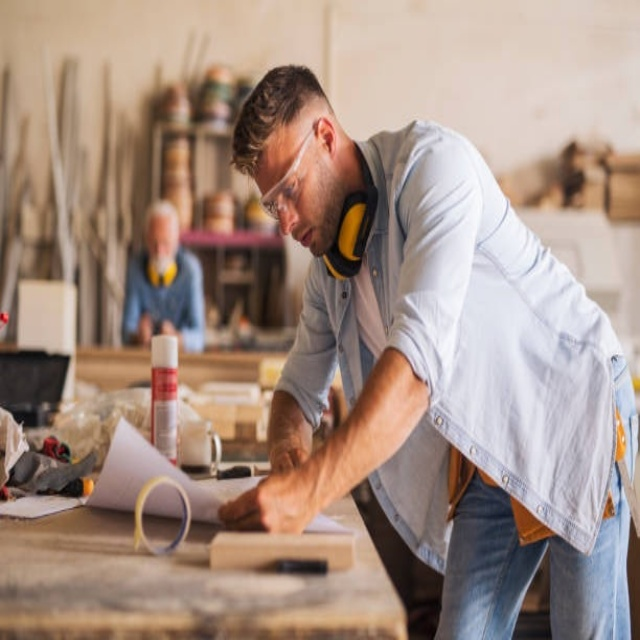Gafas: (260, 119, 324, 221)
Sin_guantes: (216, 467, 306, 535)
Sin_mascara: (292, 224, 325, 262)
